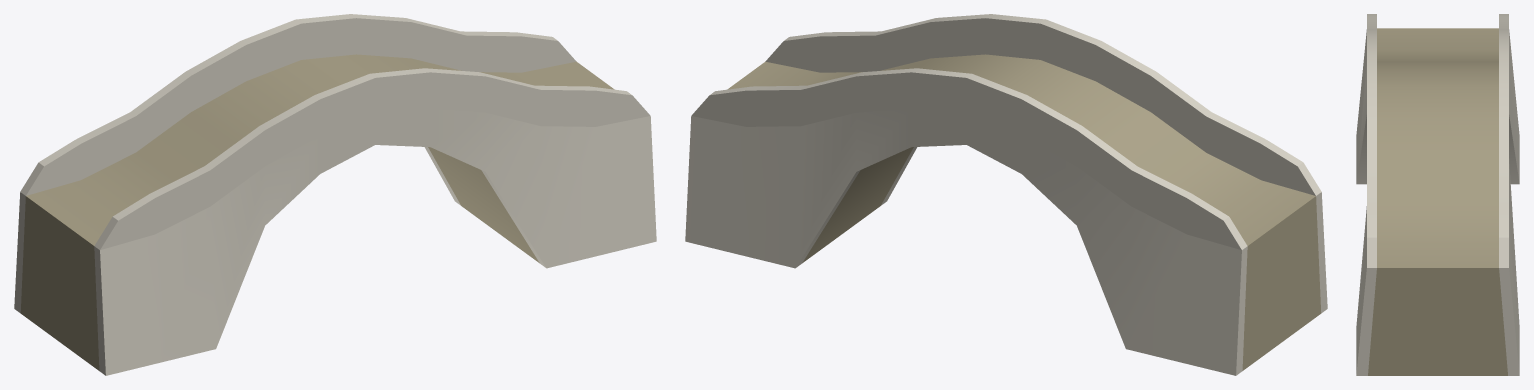
File: bridge.fbx
3 renders of one model, left to right at view 1: azimuth 30°, elevation 25°; view 2: azimuth 150°, elevation 25°; view 3: azimuth 270°, elevation 25°, orthographic. The views are drawn at different scales.
Visible parts, largest first — view 1: pCube1; view 2: pCube1; view 3: pCube1.
Boxes of the visible parts, x1=… form: pCube1: x1=14, y1=14, x2=656, y2=375; pCube1: x1=685, y1=14, x2=1327, y2=375; pCube1: x1=1356, y1=14, x2=1519, y2=375.
Bounding box in the file's own units: 19.13 × 7.52 × 5.52.
